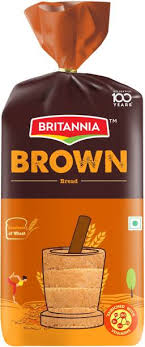bread: (9, 6, 145, 347)
